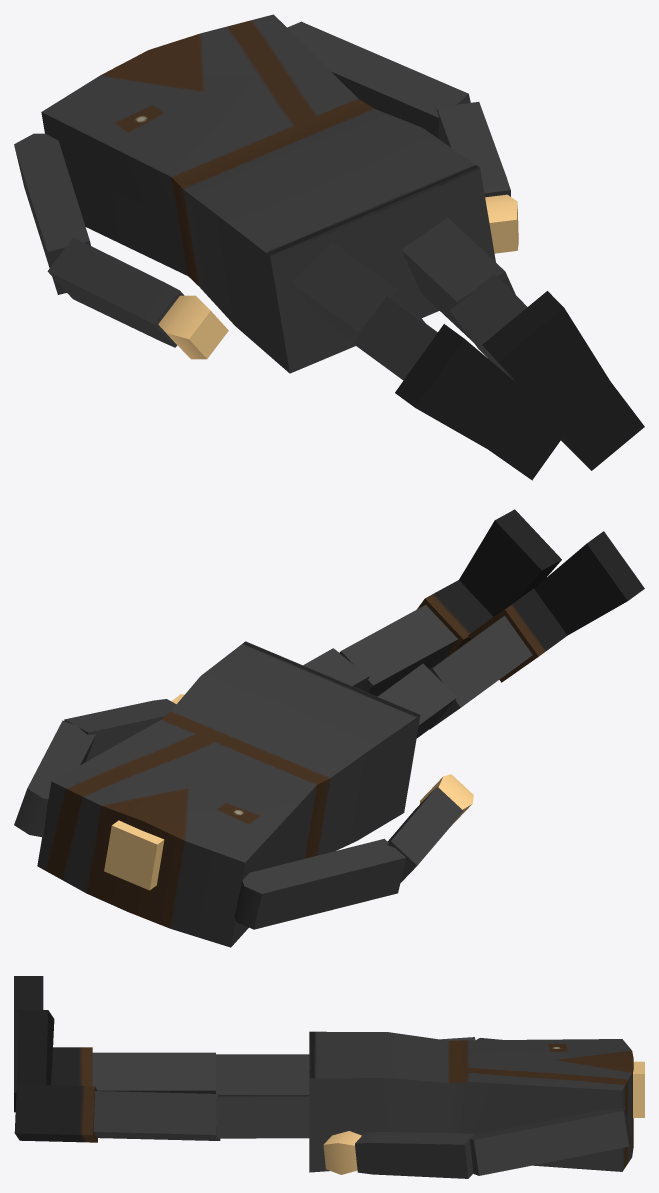
File: sergeant_dead.fbx
The picture shows the model from 3 angles, top to bottom: view 1: azimuth 30°, elevation 25°; view 2: azimuth 150°, elevation 25°; view 3: azimuth 270°, elevation 25°; orthographic projection. The views are drawn at different scales.
Visible parts, largest first — view 1: Sergeant, foot, foot1, upper_arm, lower_arm1, upper_leg1, upper_leg, upper_arm1, lower_leg1, lower_arm, lower_leg, hand1 (+1 smaller); view 2: Sergeant, upper_arm1, lower_leg, lower_leg1, foot1, foot, upper_arm, lower_arm1, neck, lower_arm, upper_leg1, upper_leg (+1 smaller); view 3: Sergeant, lower_leg, upper_arm, lower_leg1, lower_arm, foot, upper_leg, upper_leg1, foot1, hand, neck.
Part boxes in pixels (box(x1,y1,x2,y2)): Sergeant: box(41, 14, 495, 373); foot: box(482, 291, 644, 470); foot1: box(395, 324, 572, 480); upper_arm: box(287, 21, 470, 137); lower_arm1: box(47, 237, 184, 347); upper_leg1: box(292, 242, 425, 341); upper_leg: box(401, 217, 515, 342); upper_arm1: box(14, 133, 90, 294); lower_leg1: box(353, 296, 437, 380); lower_arm: box(436, 102, 510, 197); lower_leg: box(449, 273, 573, 452); hand1: box(158, 295, 228, 359); Sergeant: box(37, 641, 420, 947); upper_arm1: box(234, 838, 405, 929); lower_leg: box(339, 580, 493, 696); lower_leg1: box(429, 588, 567, 729); foot1: box(530, 531, 644, 635); foot: box(459, 509, 561, 616); upper_arm: box(14, 720, 95, 837); lower_arm1: box(387, 786, 463, 882); neck: box(104, 820, 164, 890); lower_arm: box(64, 699, 176, 761); upper_leg1: box(377, 663, 456, 738); upper_leg: box(303, 648, 369, 690); Sergeant: box(309, 1031, 633, 1172); lower_leg: box(44, 1085, 220, 1142); upper_arm: box(470, 1107, 631, 1175); lower_leg1: box(51, 1047, 215, 1093); lower_arm: box(355, 1132, 475, 1178); foot: box(14, 1009, 54, 1141); upper_leg: box(216, 1095, 309, 1138); upper_leg1: box(216, 1054, 309, 1095); foot1: box(14, 976, 43, 1112); hand: box(323, 1131, 361, 1174); neck: box(633, 1061, 644, 1117).
Size of the model in its own units: 1.13 by 0.4925 by 1.99.
